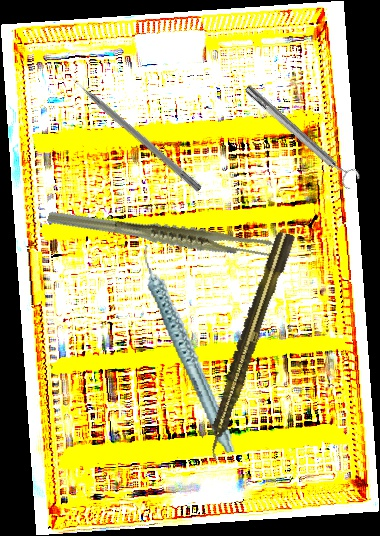Fixation Ring: (239, 78, 364, 193)
Handpiece: (199, 229, 297, 462), (140, 235, 237, 462)
Pusher: (64, 69, 204, 193)
Tissue Forceps: (45, 168, 278, 298)
